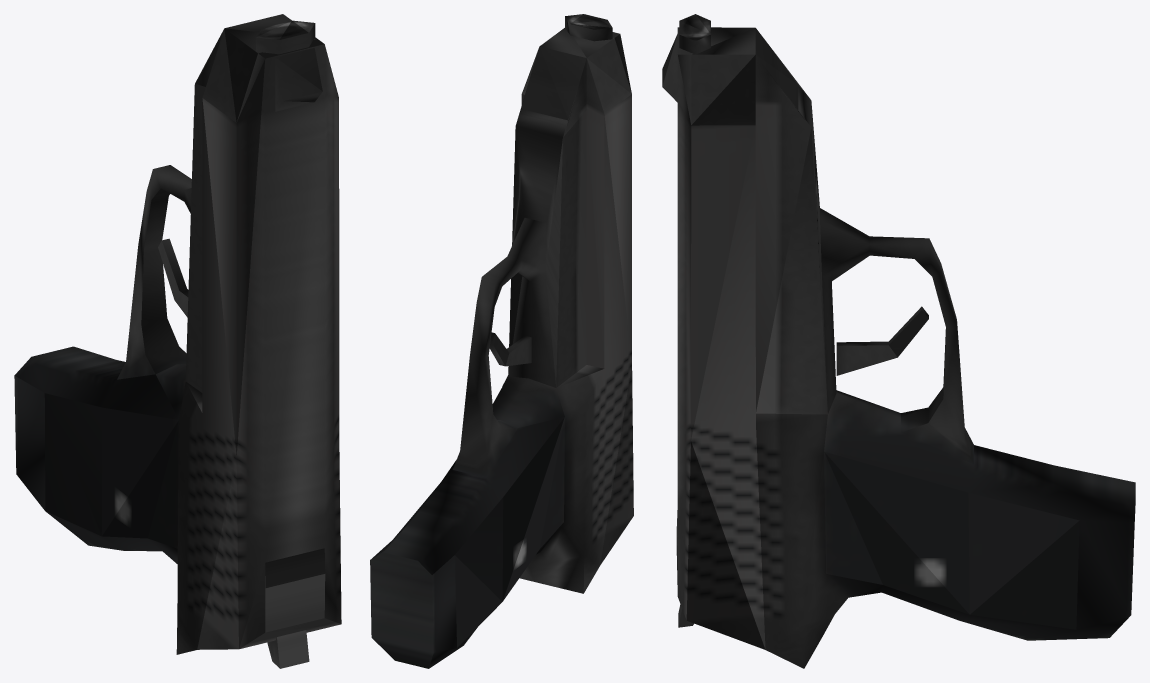
File: WaltherP5.fbx
3 views of the same model, side by side, from view 1: azimuth 30°, elevation 25°; view 2: azimuth 150°, elevation 25°; view 3: azimuth 270°, elevation 25° (orthographic). The views are drawn at different scales.
Parts seen in each view (by area): view 1: node_7eb8945f_c9b5_4b90_a62e_b771b0daf3d9_mesh0; view 2: node_7eb8945f_c9b5_4b90_a62e_b771b0daf3d9_mesh0; view 3: node_7eb8945f_c9b5_4b90_a62e_b771b0daf3d9_mesh0.
Part boxes in pixels (left/top/right/bottom): node_7eb8945f_c9b5_4b90_a62e_b771b0daf3d9_mesh0: left=14, top=14, right=341, bottom=668; node_7eb8945f_c9b5_4b90_a62e_b771b0daf3d9_mesh0: left=370, top=14, right=633, bottom=668; node_7eb8945f_c9b5_4b90_a62e_b771b0daf3d9_mesh0: left=662, top=14, right=1135, bottom=668.
Size of the model in its own units: 0.0199 by 0.1211 by 0.0841.
